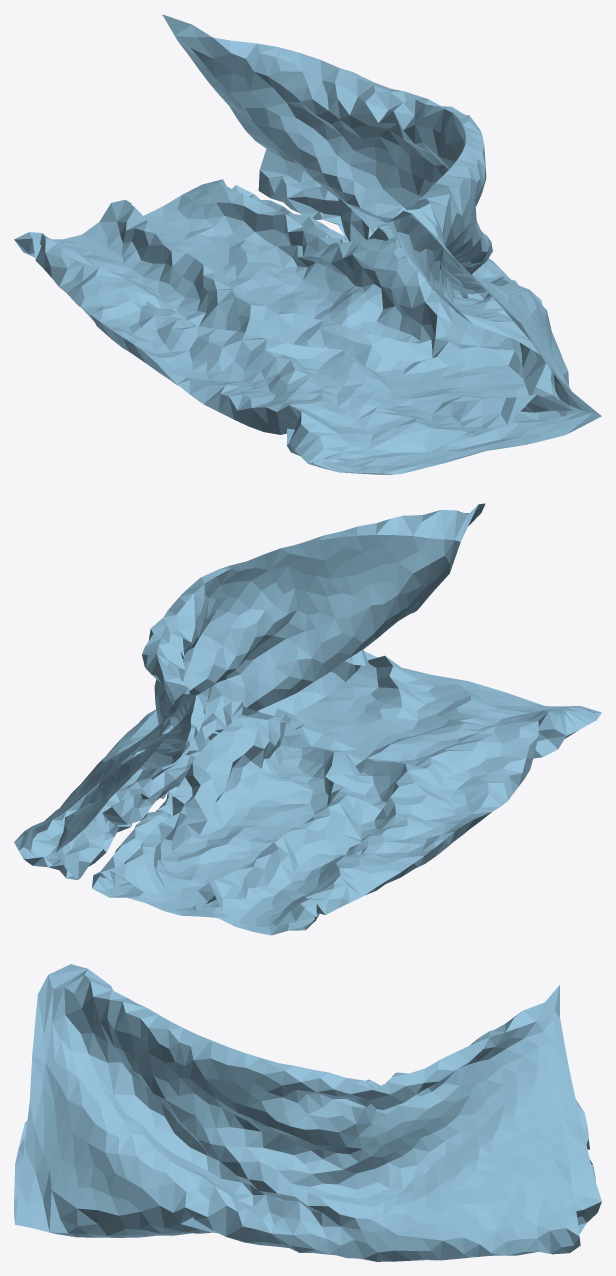
File: frame_14.glb
3 renders of one model, top to bottom at view 1: azimuth 30°, elevation 25°; view 2: azimuth 150°, elevation 25°; view 3: azimuth 270°, elevation 25°, orthographic. The views are drawn at different scales.
Parts seen in each view (by area): view 1: frame_14.obj; view 2: frame_14.obj; view 3: frame_14.obj.
Part boxes in pixels (x1,y1,x2,y2): frame_14.obj: [14, 14, 601, 474]; frame_14.obj: [14, 503, 601, 935]; frame_14.obj: [14, 964, 601, 1261].
Size of the model in its own units: 0.9231 by 0.6004 by 1.5.
